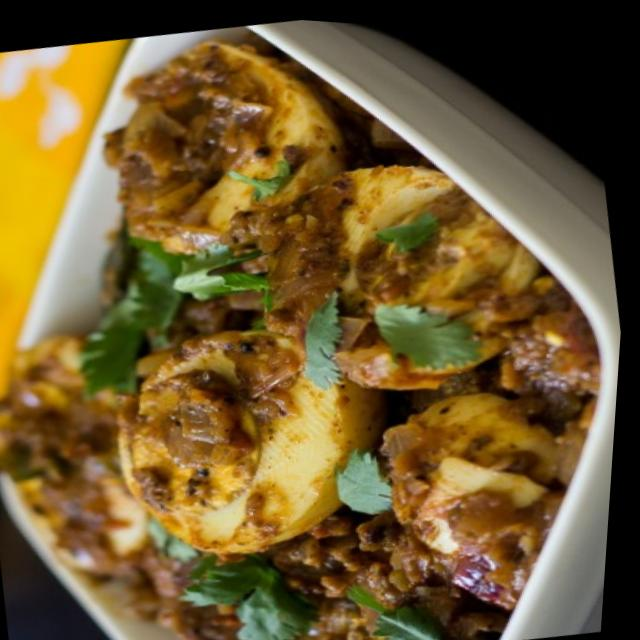EGG: (0, 23, 621, 640)
